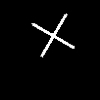single_crochet: (32, 14, 73, 56)
